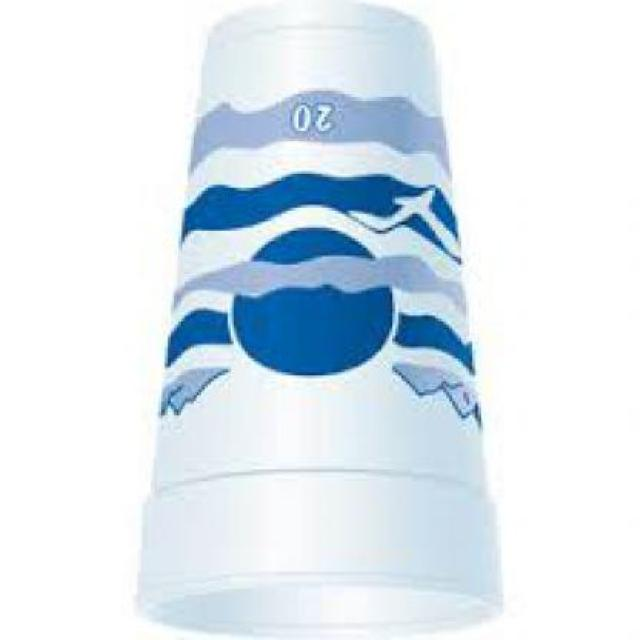PAPER: (145, 3, 504, 639)
